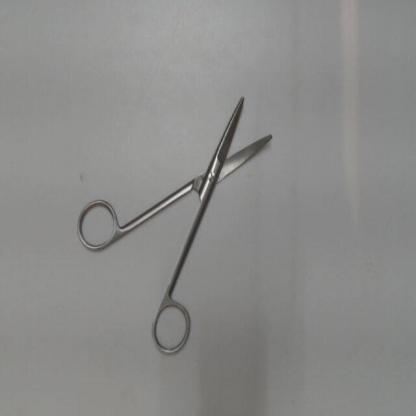Curved Mayo Scissors: (72, 84, 282, 365)
